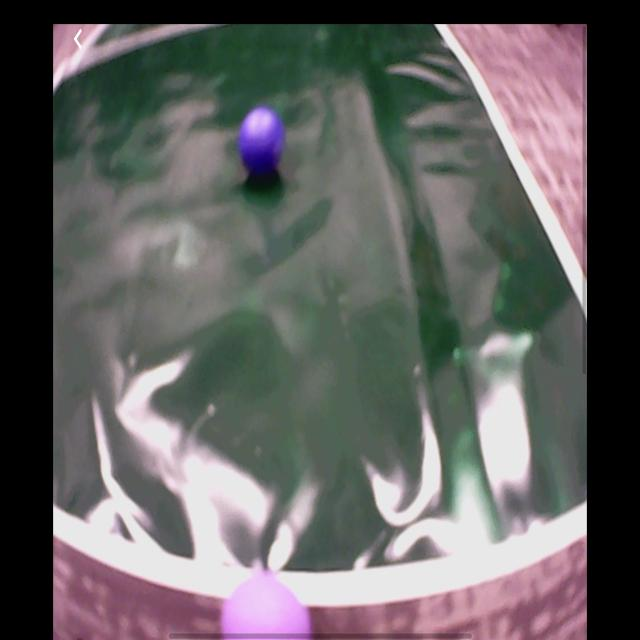ball: (224, 574, 313, 640), (240, 104, 286, 178)
